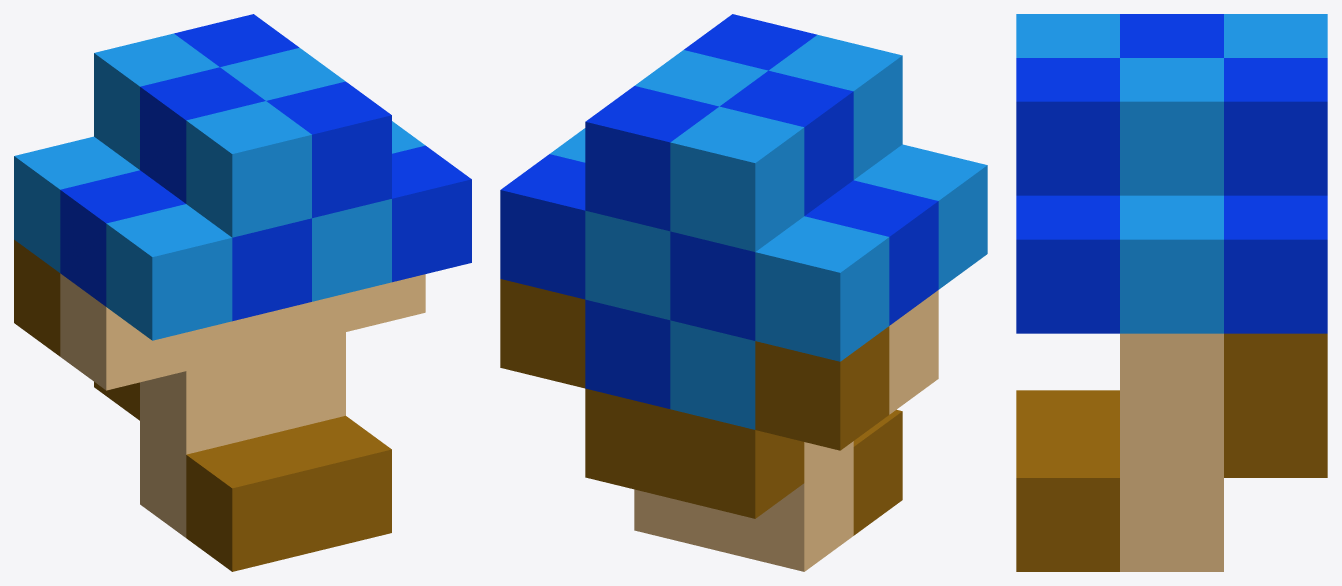
Rendered from scummBarPirate09_head.obj.
3 renders of one model, left to right at view 1: azimuth 30°, elevation 25°; view 2: azimuth 150°, elevation 25°; view 3: azimuth 270°, elevation 25°, orthographic. The views are drawn at different scales.
Bounding box in the file's own units: 4 × 5 × 3.
Materials: 1 (1 with a texture image).
